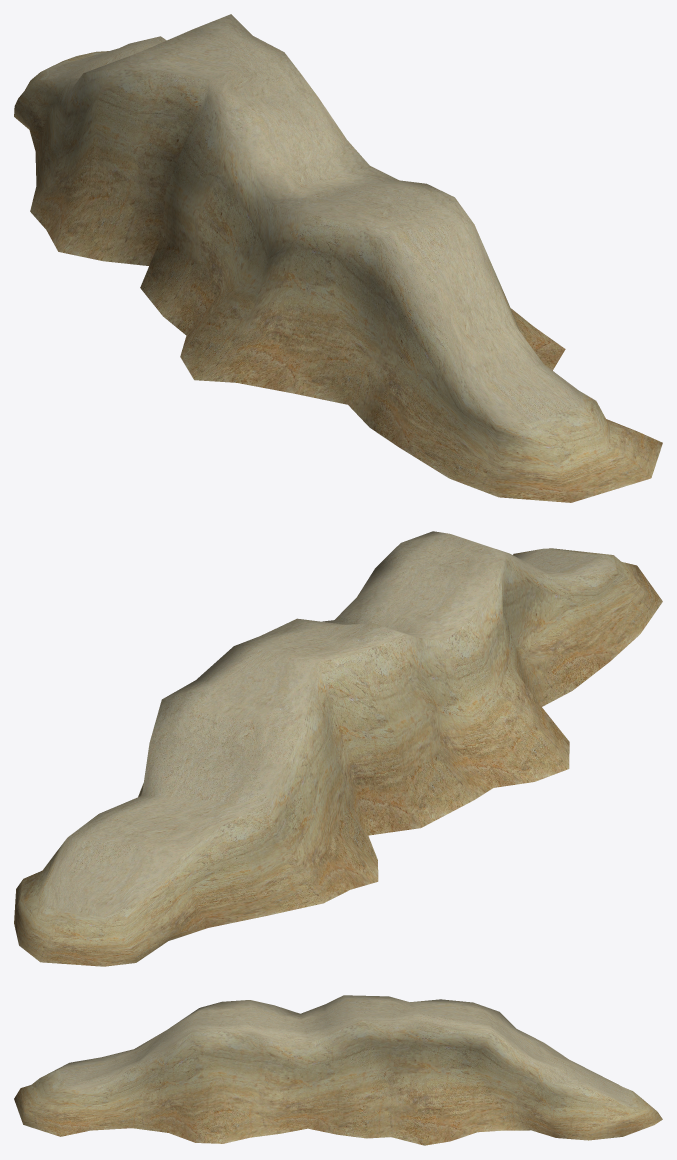
The model's file is rock_beach_spine_l0.fbx.
3 renders of one model, top to bottom at view 1: azimuth 30°, elevation 25°; view 2: azimuth 150°, elevation 25°; view 3: azimuth 270°, elevation 25°, orthographic. The views are drawn at different scales.
Visible parts, largest first — view 1: mesh_node; view 2: mesh_node; view 3: mesh_node.
Part boxes in pixels (x1,y1,x2,y2): mesh_node: (14,14,662,502); mesh_node: (14,531,662,966); mesh_node: (14,995,662,1145).
Bounding box in the file's own units: 8.17 × 4.64 × 26.15.
